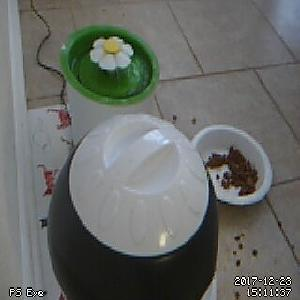fountain: (59, 25, 160, 107)
